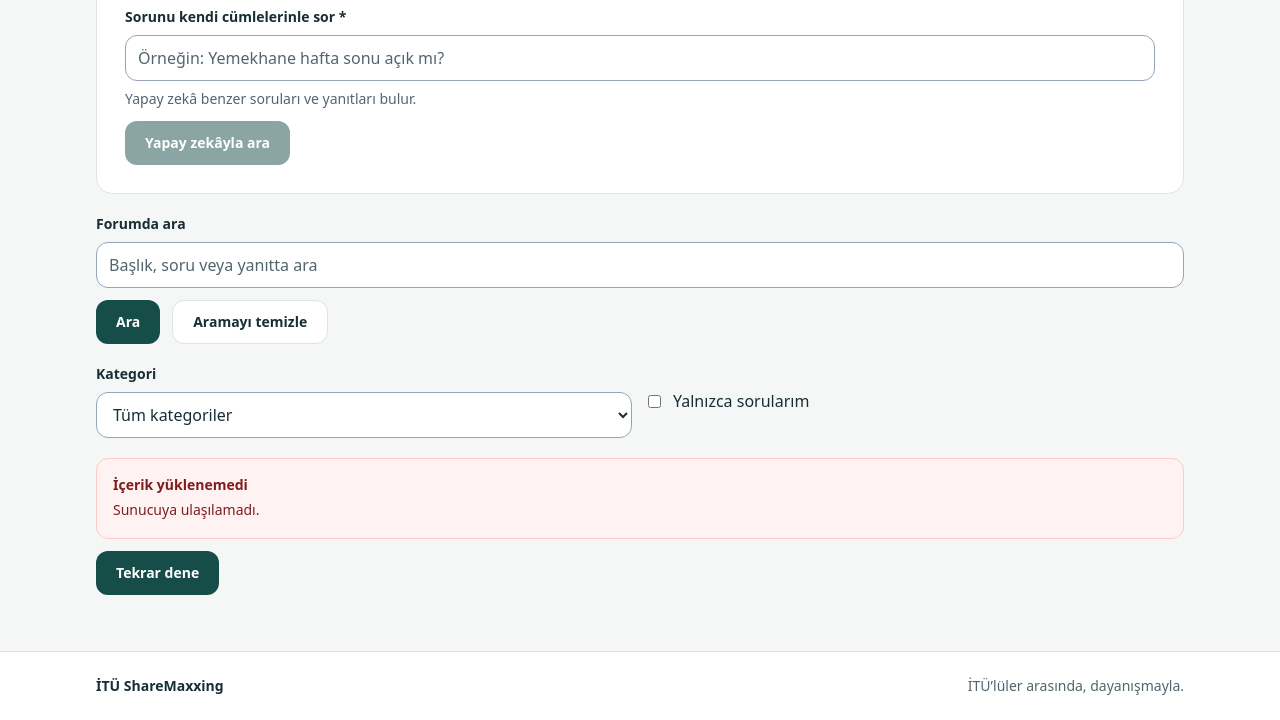
Test case: handles loading failure and retry rather than showing an empty successful result
(page scrolled)
Expected: the text "Sunucuya ulaşılamadı." is shown, [113,500,260,519]
Click the button "Tekrar dene" at (158, 573), box [96,551,219,595]
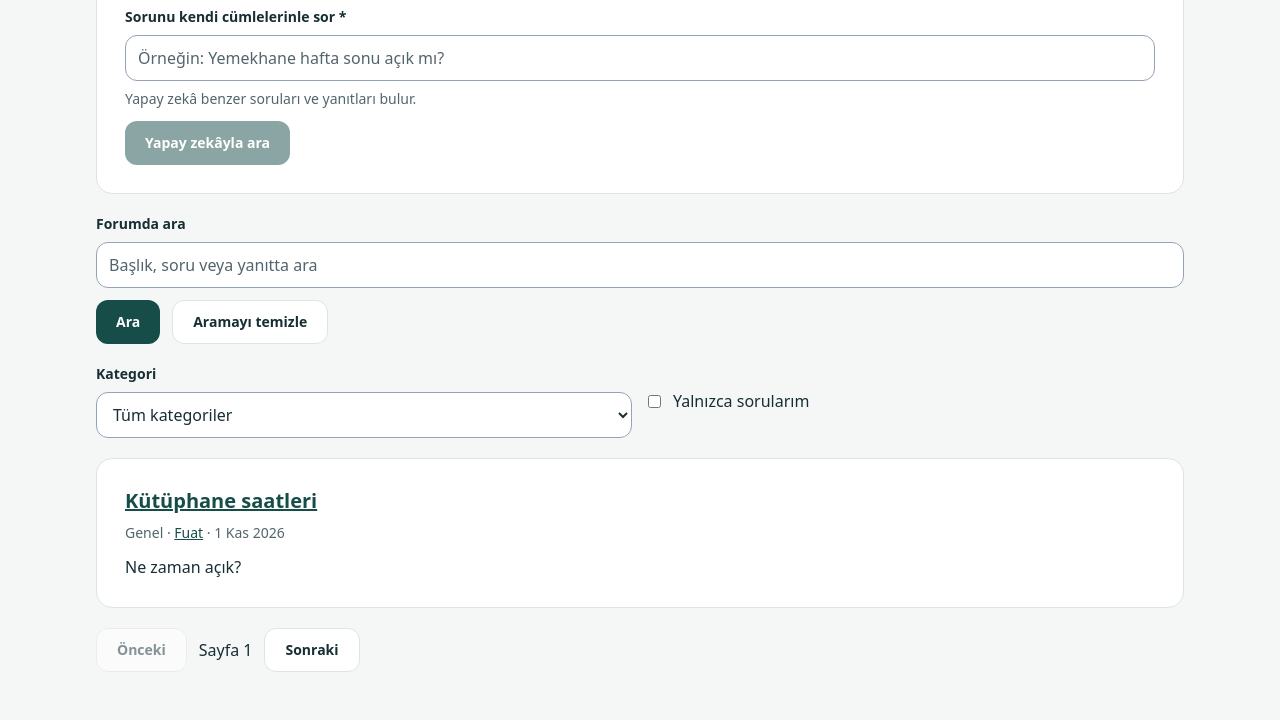
Expected: the link "Kütüphane saatleri" is shown, [125,487,317,514]
